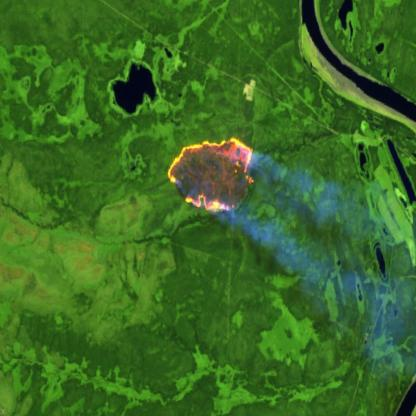fire: (163, 131, 259, 216)
